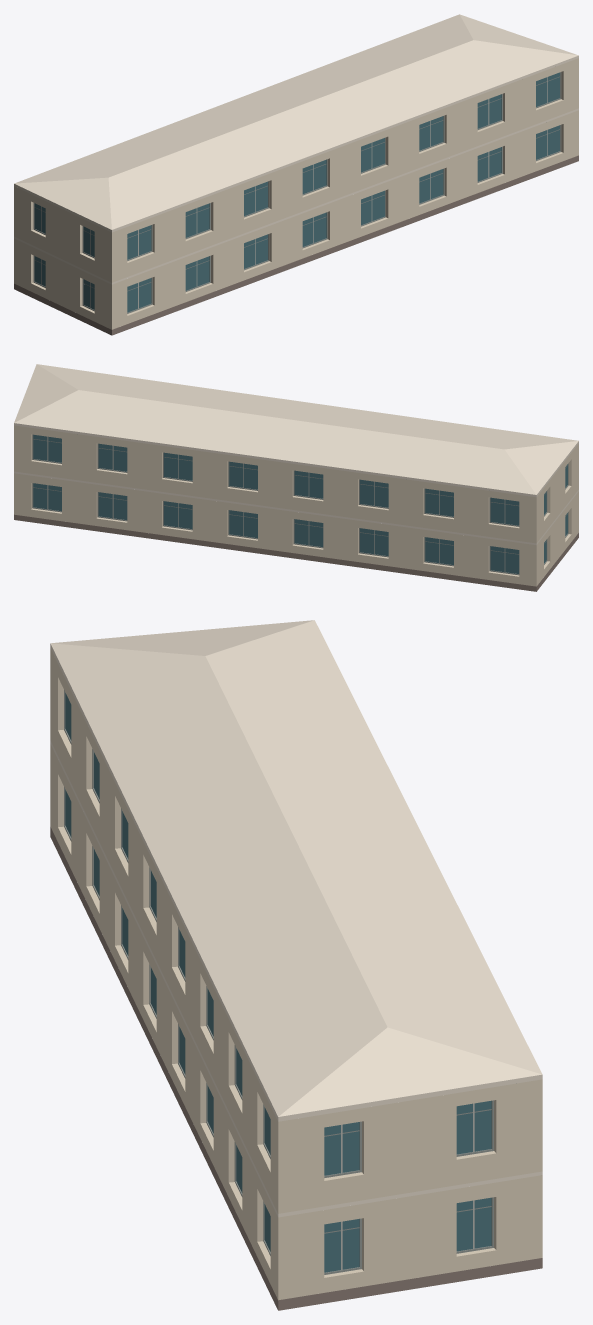
File: chunk-dorm-student-dorm-east-12.glb
3 renders of one model, top to bottom at view 1: azimuth 30°, elevation 25°; view 2: azimuth 150°, elevation 25°; view 3: azimuth 270°, elevation 25°, orthographic. The views are drawn at different scales.
Visible parts, largest first — view 1: chunk-dorm-student-dorm-east-12; view 2: chunk-dorm-student-dorm-east-12; view 3: chunk-dorm-student-dorm-east-12.
Boxes of the visible parts, bbox=[...] form: chunk-dorm-student-dorm-east-12: bbox=[14, 14, 578, 335]; chunk-dorm-student-dorm-east-12: bbox=[14, 364, 578, 591]; chunk-dorm-student-dorm-east-12: bbox=[50, 620, 542, 1310].
Size of the model in its own units: 36.29 by 7.35 by 15.19.
